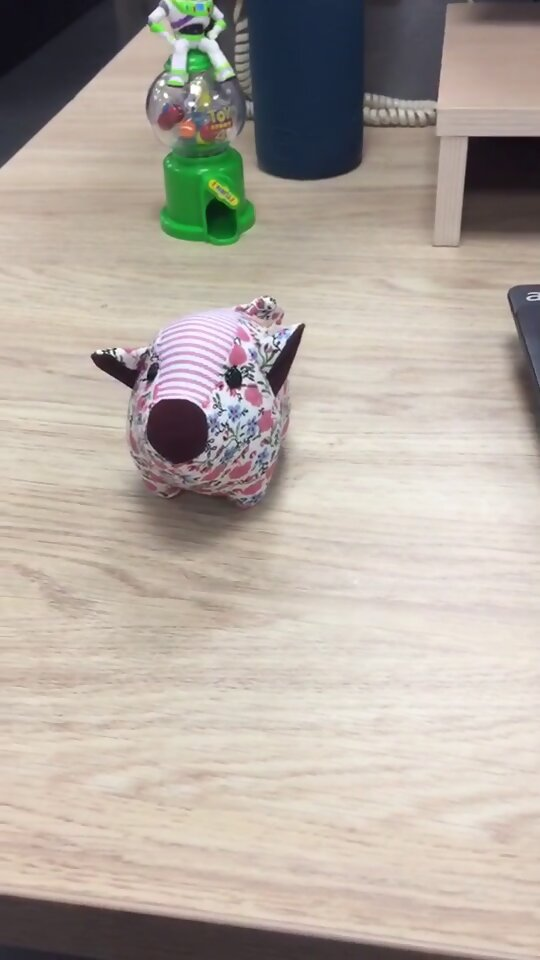pig: (85, 293, 310, 513)
